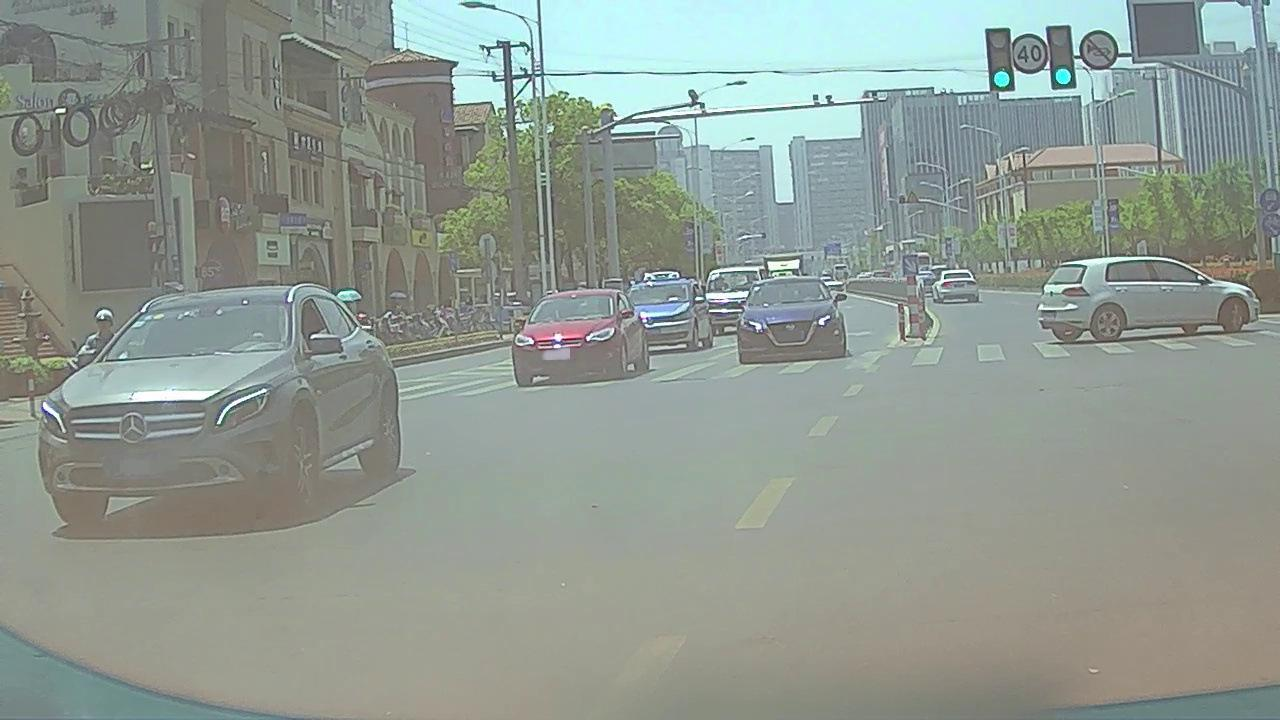traffic_light: (988, 30, 1016, 90), (1049, 25, 1075, 87)
